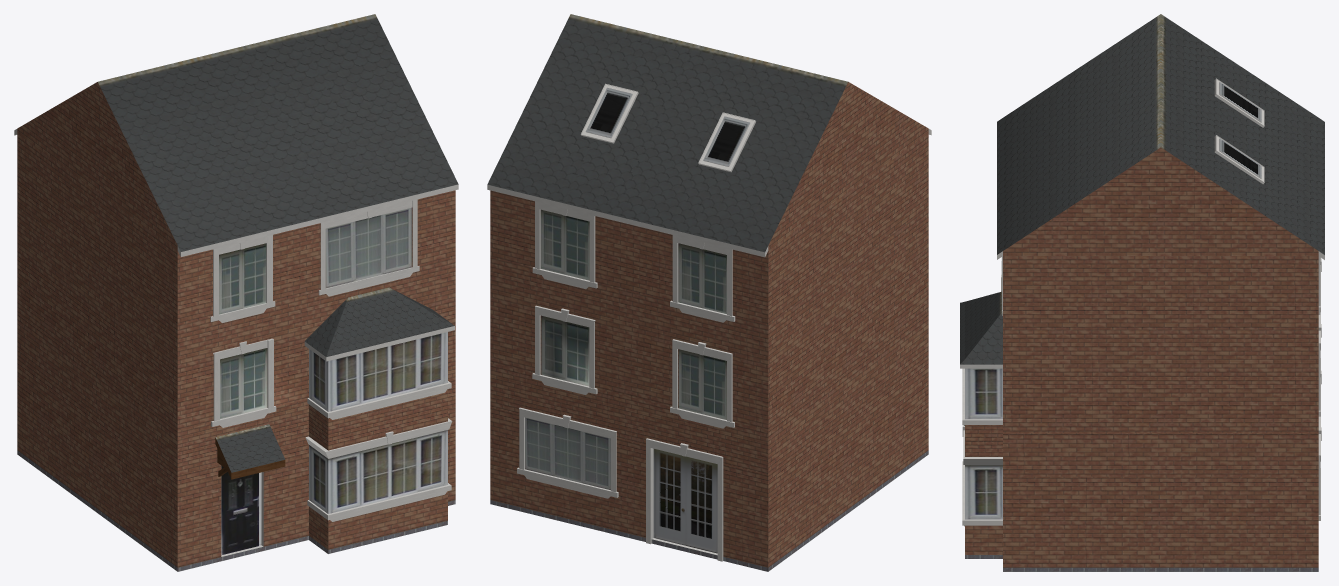
Rendered from modernterrace3story3.FBX.
3 views of the same model, side by side, from view 1: azimuth 30°, elevation 25°; view 2: azimuth 150°, elevation 25°; view 3: azimuth 270°, elevation 25° (orthographic).
Parts seen in each view (by area): view 1: Box001; view 2: Box001; view 3: Box001.
Part boxes in pixels (x1,y1,x2,y2): Box001: (14,14,458,571); Box001: (487,14,931,571); Box001: (960,14,1324,571).
Bounding box in the file's own units: 800 × 1188 × 925.
